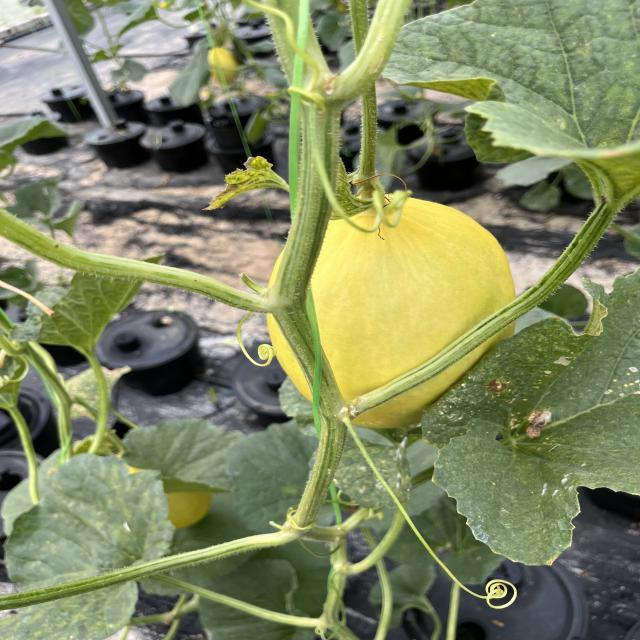bacterial wilt: (199, 154, 291, 215)
downy mildew: (430, 279, 640, 566), (361, 0, 640, 173)
powdery mildew: (423, 288, 640, 544), (358, 0, 640, 170)
